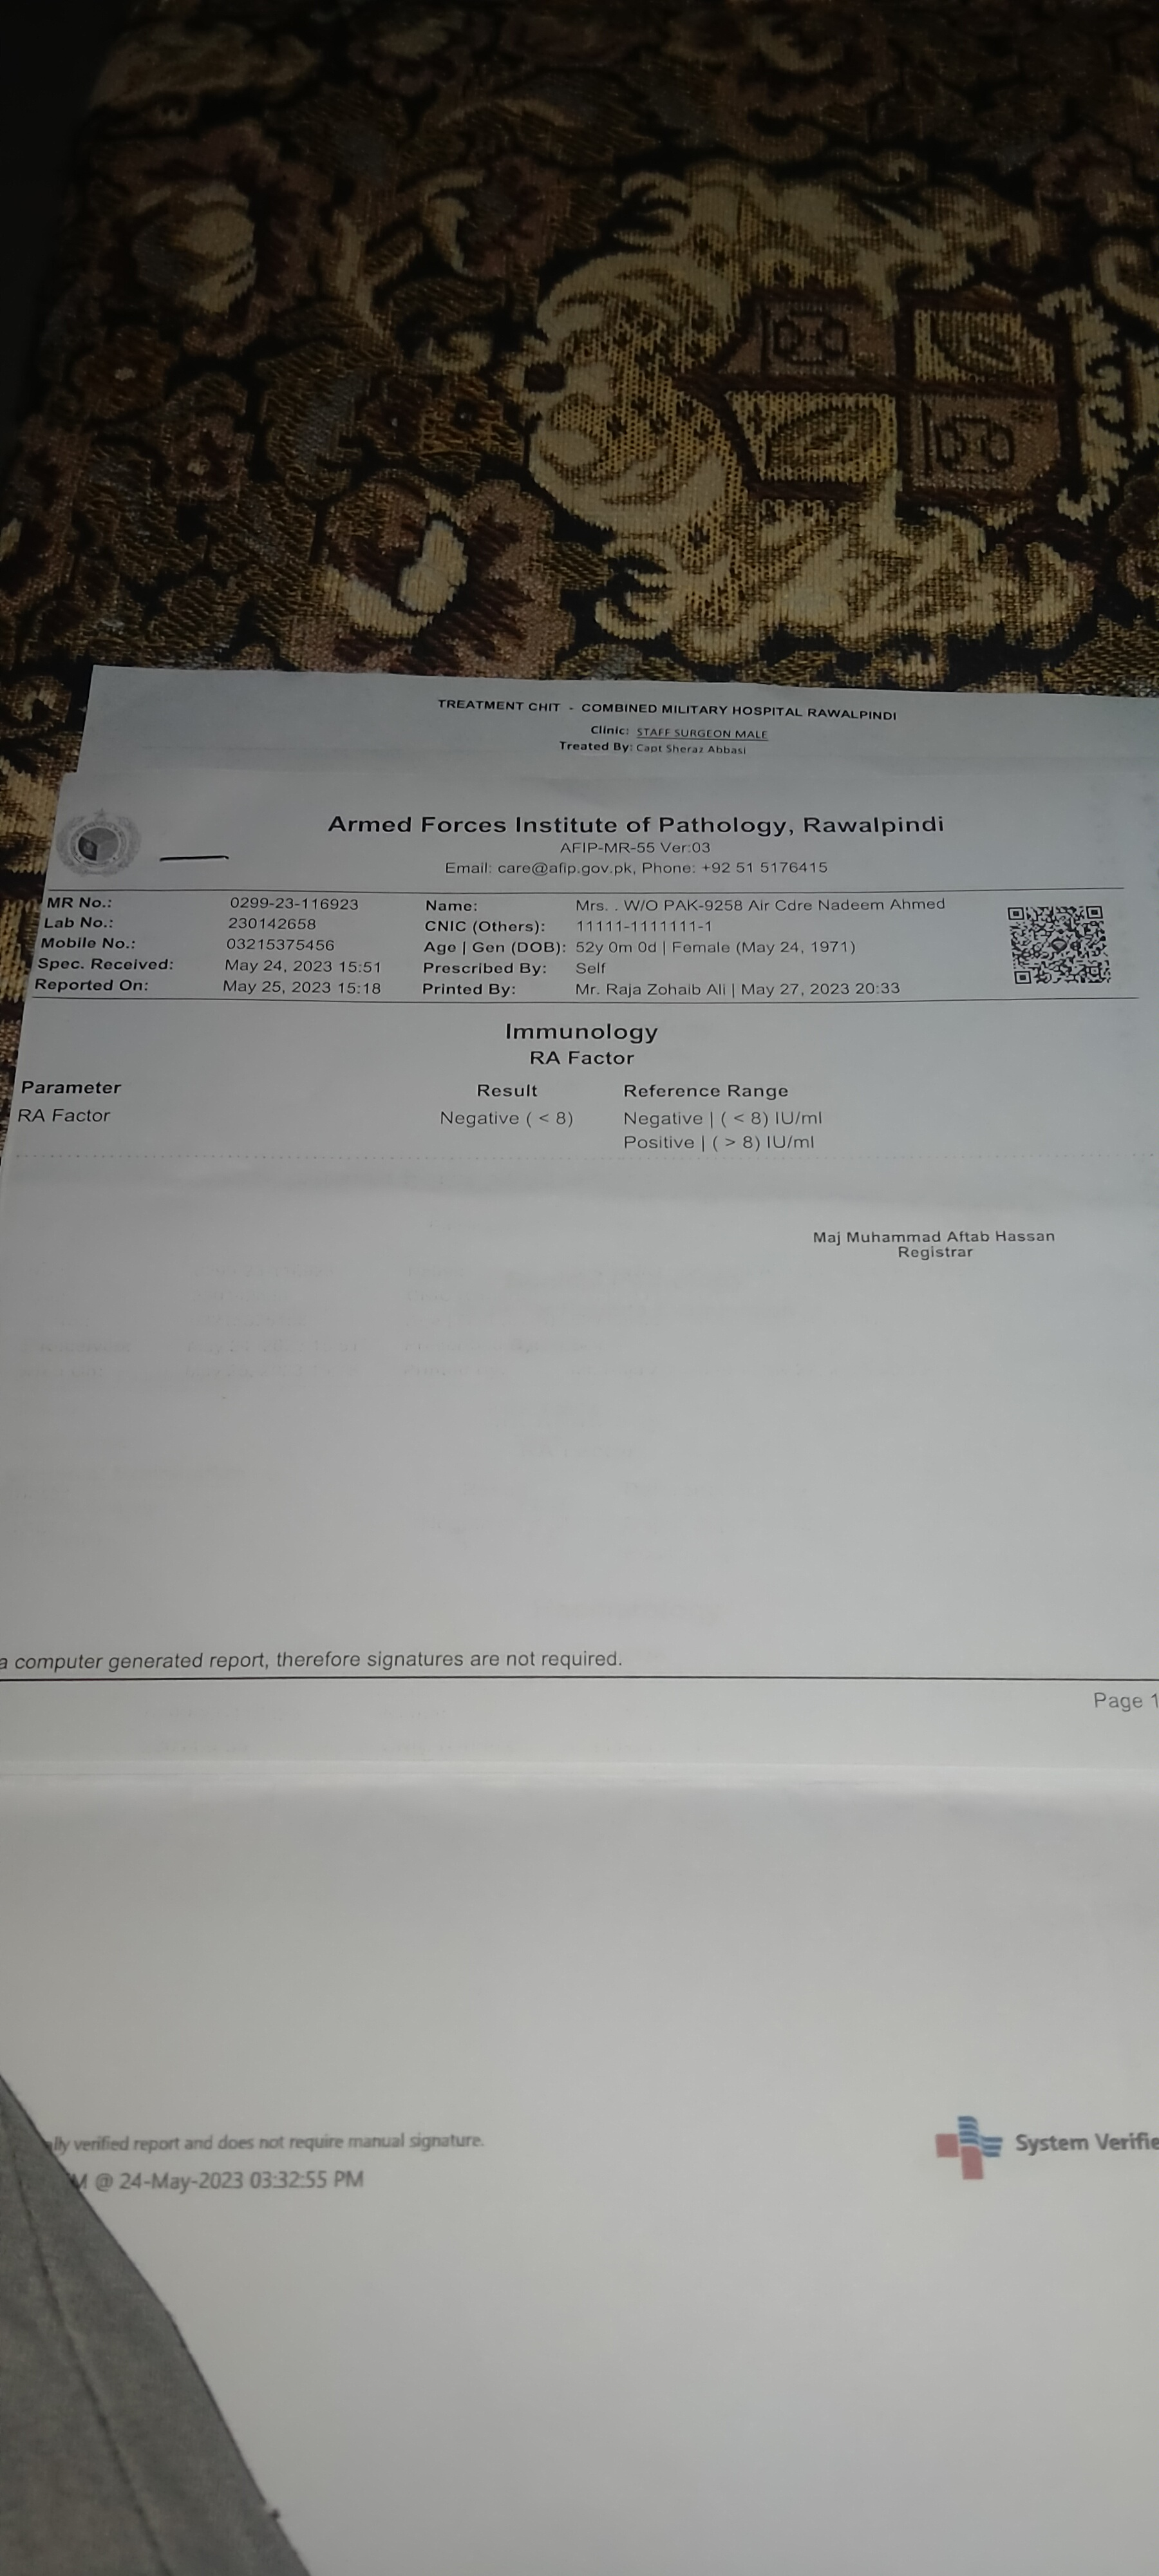report: (2, 1068, 1159, 1199)
